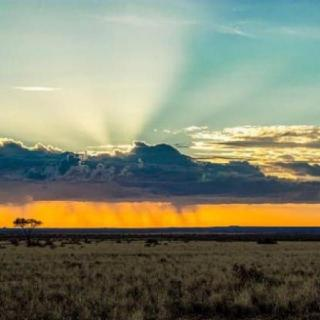Nimbostratus: (0, 0, 320, 199)
